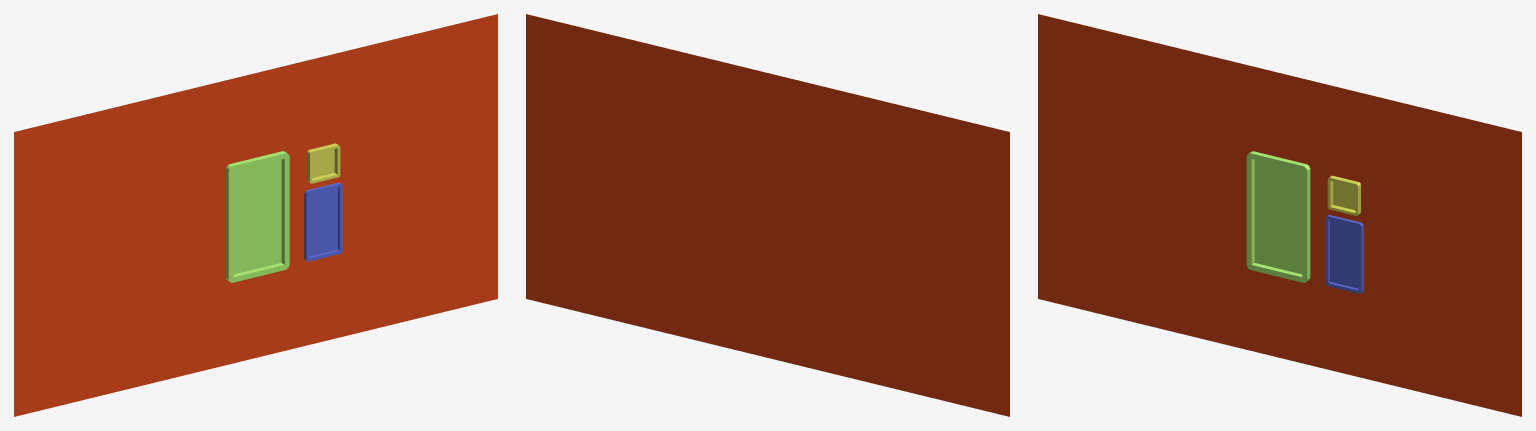
The model's file is field.glb.
3 renders of one model, left to right at view 1: azimuth 30°, elevation 25°; view 2: azimuth 150°, elevation 25°; view 3: azimuth 330°, elevation 25°, orthographic.
Visible parts, largest first — view 1: Plane, Cube, Cube.001, Cube.002; view 2: Plane; view 3: Plane, Cube, Cube.001, Cube.002.
Boxes of the visible parts, x1,y1,x2,y2 form: Plane: [14, 14, 497, 416]; Cube: [226, 151, 289, 282]; Cube.001: [304, 182, 342, 261]; Cube.002: [307, 143, 340, 183]; Plane: [526, 14, 1009, 416]; Plane: [1038, 14, 1521, 416]; Cube: [1246, 151, 1310, 282]; Cube.001: [1325, 215, 1363, 293]; Cube.002: [1327, 175, 1360, 215].
Size of the model in its own units: 95.54 by 53.74 by 1.04.
